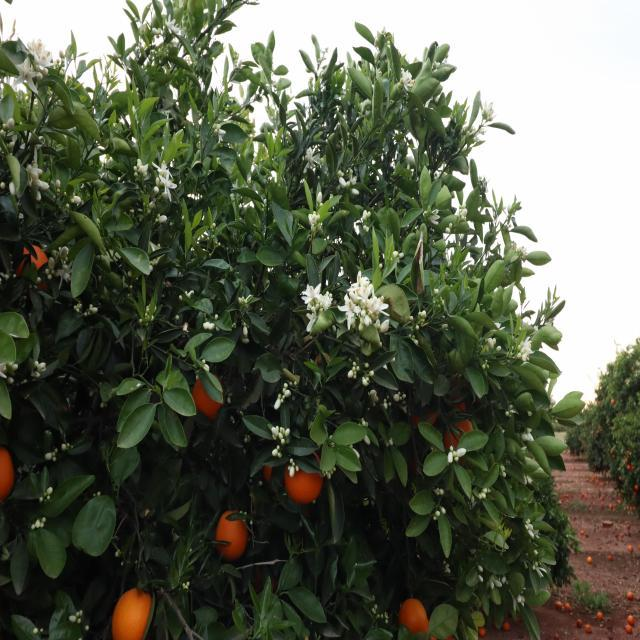Bunga: (14, 57, 38, 95), (339, 294, 361, 329), (160, 169, 177, 201), (372, 290, 390, 316), (32, 50, 54, 70), (58, 261, 73, 290), (350, 270, 368, 294), (304, 146, 319, 172), (302, 284, 321, 304), (152, 160, 173, 178), (28, 38, 47, 56), (348, 361, 360, 382), (306, 312, 318, 332), (136, 160, 150, 177), (532, 562, 546, 579), (213, 124, 226, 142), (512, 593, 525, 611), (27, 164, 42, 178), (166, 13, 176, 34), (375, 319, 390, 333), (308, 212, 322, 226), (447, 448, 459, 464), (0, 360, 10, 379), (322, 293, 332, 312), (361, 314, 374, 328), (34, 179, 49, 191), (430, 209, 440, 226), (524, 519, 534, 536), (522, 429, 534, 442), (3, 118, 14, 132), (274, 394, 284, 409), (288, 461, 298, 476), (278, 426, 290, 438), (71, 192, 82, 205), (154, 212, 167, 223), (459, 203, 466, 223), (338, 171, 346, 188), (348, 169, 356, 186), (282, 383, 291, 398), (478, 488, 488, 500), (271, 426, 280, 439), (202, 322, 216, 330), (35, 362, 46, 372), (394, 392, 405, 402), (491, 579, 502, 589), (361, 299, 367, 317), (60, 246, 68, 259), (362, 209, 370, 222), (152, 27, 162, 37), (47, 258, 55, 270), (317, 192, 323, 208), (418, 310, 426, 322), (272, 446, 280, 458), (370, 390, 378, 402), (455, 449, 467, 457), (154, 178, 160, 194), (9, 181, 15, 196), (173, 24, 180, 36), (360, 417, 368, 427), (238, 297, 248, 305), (89, 304, 97, 312), (435, 489, 443, 497), (392, 251, 399, 260), (362, 377, 369, 386), (243, 324, 248, 336), (363, 224, 369, 232)
Jeruk Sudah Matang: (282, 451, 324, 503), (114, 590, 151, 640), (18, 244, 51, 290), (216, 512, 248, 558), (191, 374, 224, 418), (400, 597, 429, 636), (444, 418, 474, 454), (0, 447, 15, 501), (411, 409, 436, 428)
